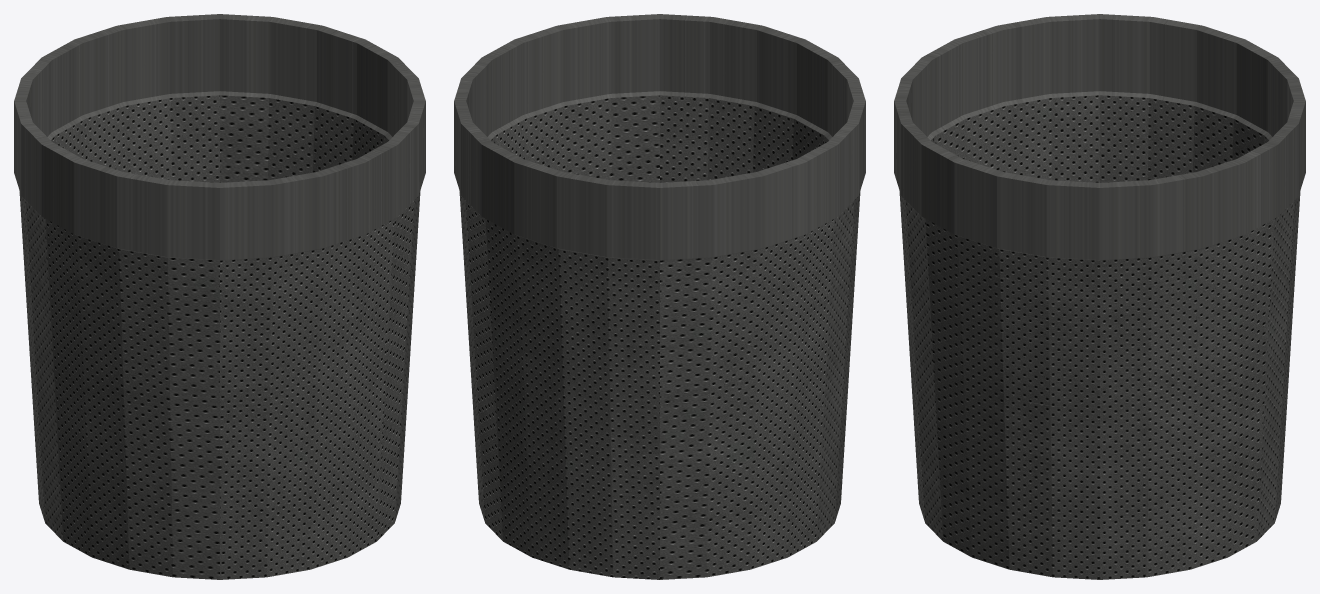
File: papelera.fbx
3 views of the same model, side by side, from view 1: azimuth 30°, elevation 25°; view 2: azimuth 150°, elevation 25°; view 3: azimuth 270°, elevation 25° (orthographic).
Visible parts, largest first — view 1: trashCan:Mesh; view 2: trashCan:Mesh; view 3: trashCan:Mesh.
Boxes of the visible parts, x1,y1,x2,y2 form: trashCan:Mesh: [14, 14, 425, 579]; trashCan:Mesh: [454, 14, 865, 579]; trashCan:Mesh: [894, 14, 1305, 579].
Size of the model in its own units: 2.28 by 2.45 by 2.28.
Materials: 1 (1 with a texture image).
